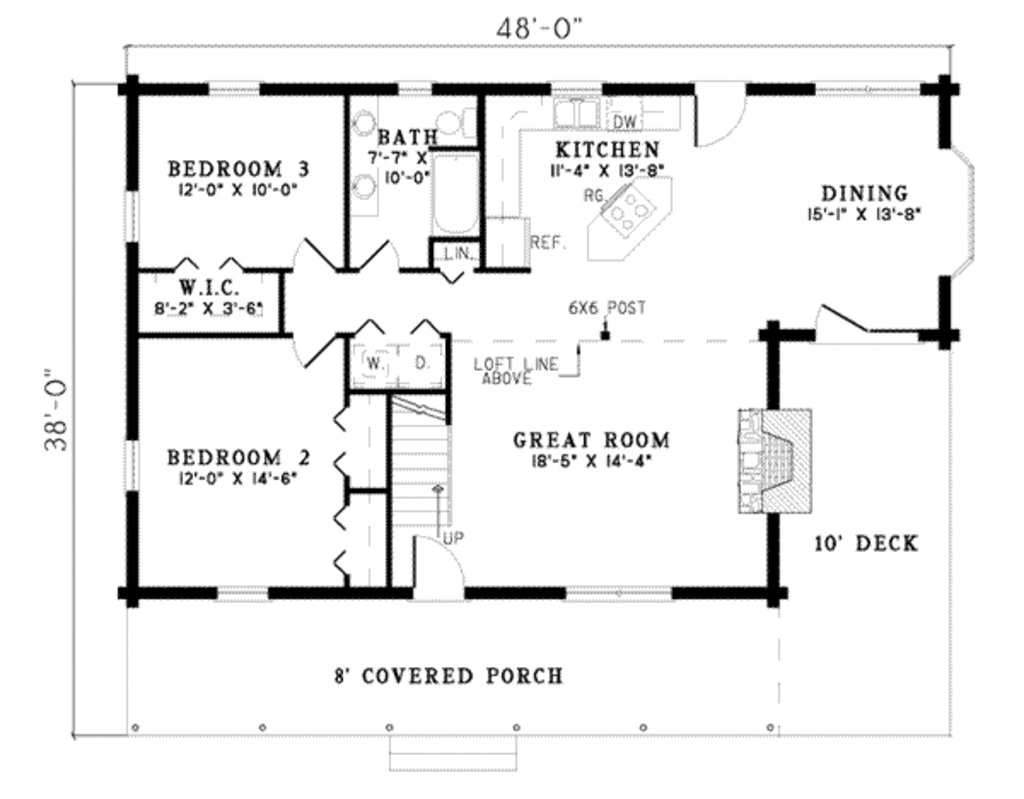door: (407, 537, 476, 612), (800, 300, 869, 342), (352, 237, 406, 275), (287, 237, 340, 274), (286, 332, 335, 366)
kitchen_bar: (576, 166, 681, 267)
large_sink: (433, 108, 477, 145)
small_sink: (345, 92, 381, 211)
stairs: (387, 390, 455, 533)
tub: (423, 147, 481, 237)
twin_sink: (553, 97, 602, 135)
window: (802, 80, 931, 103), (209, 580, 280, 614), (566, 588, 678, 604), (198, 76, 262, 102), (121, 436, 148, 493), (121, 188, 146, 249), (388, 75, 443, 100)
